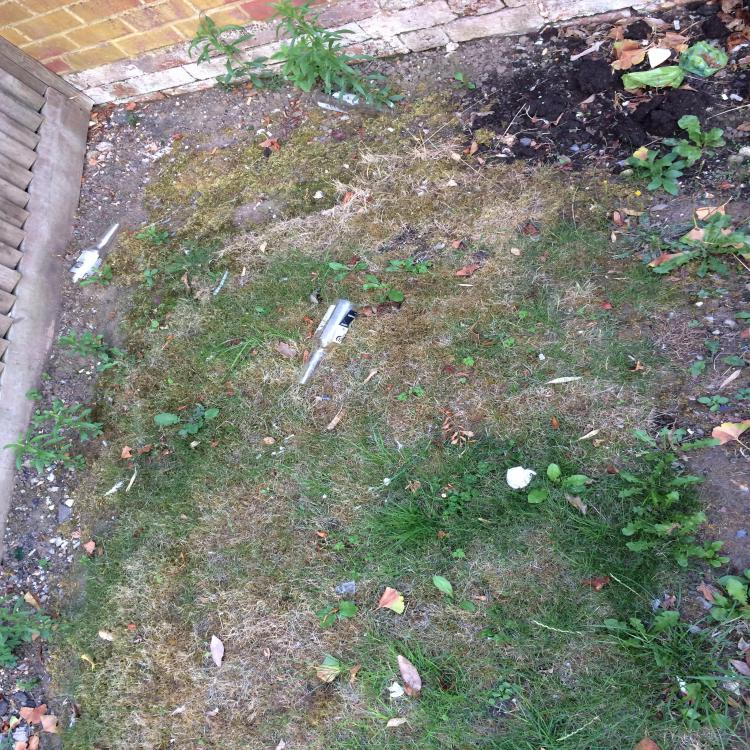Cigarette: (246, 97, 252, 105), (496, 154, 507, 158)
Glass bottle: (296, 298, 361, 385), (65, 221, 122, 284), (312, 89, 393, 115)
Plastic film: (335, 580, 355, 594)
Unlabeled litter: (506, 466, 537, 489), (677, 676, 692, 706), (213, 270, 228, 295)
